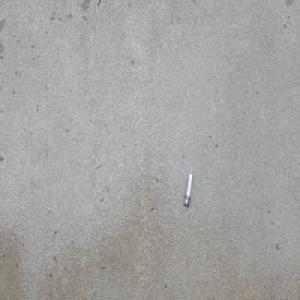Battery: (183, 172, 193, 207)
